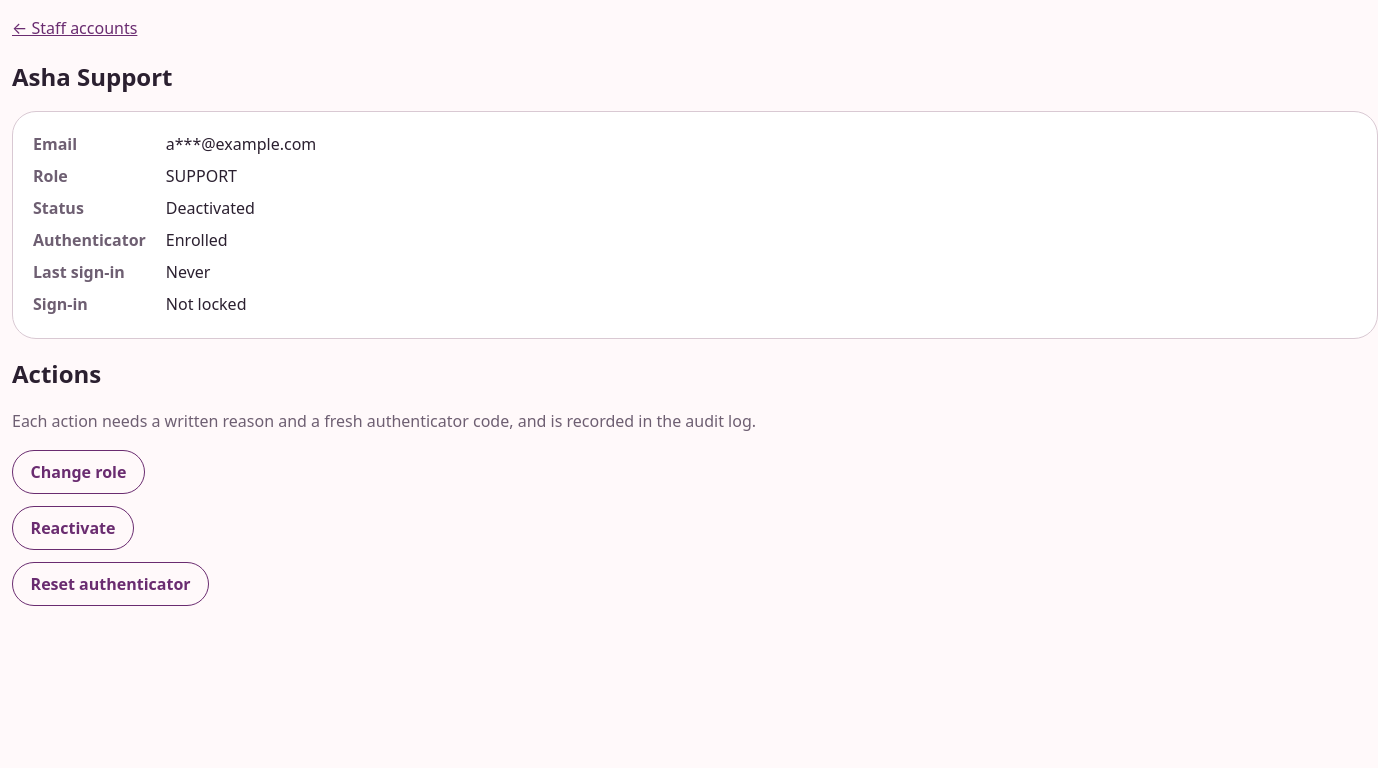
Scenario: AdminUserDetail › warns on Reactivate that a possibly compromised account needs an authenticator reset and a password reset link first
Click the button "Reactivate".
click(73, 528)  # box [12, 506, 134, 550]
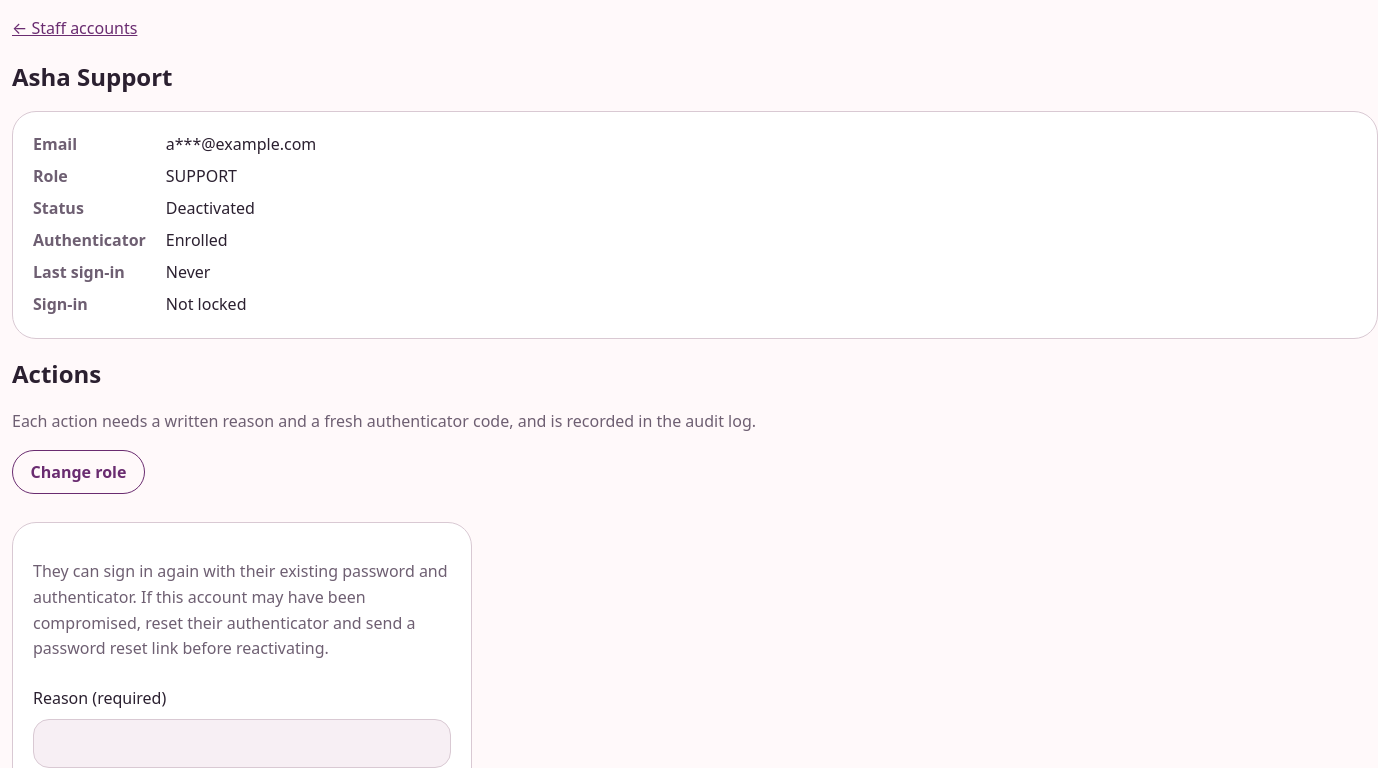
Check: the text "may have been compromised, reset their authenticator and send a password reset link before reactivating" is shown, box [33, 560, 448, 659]
